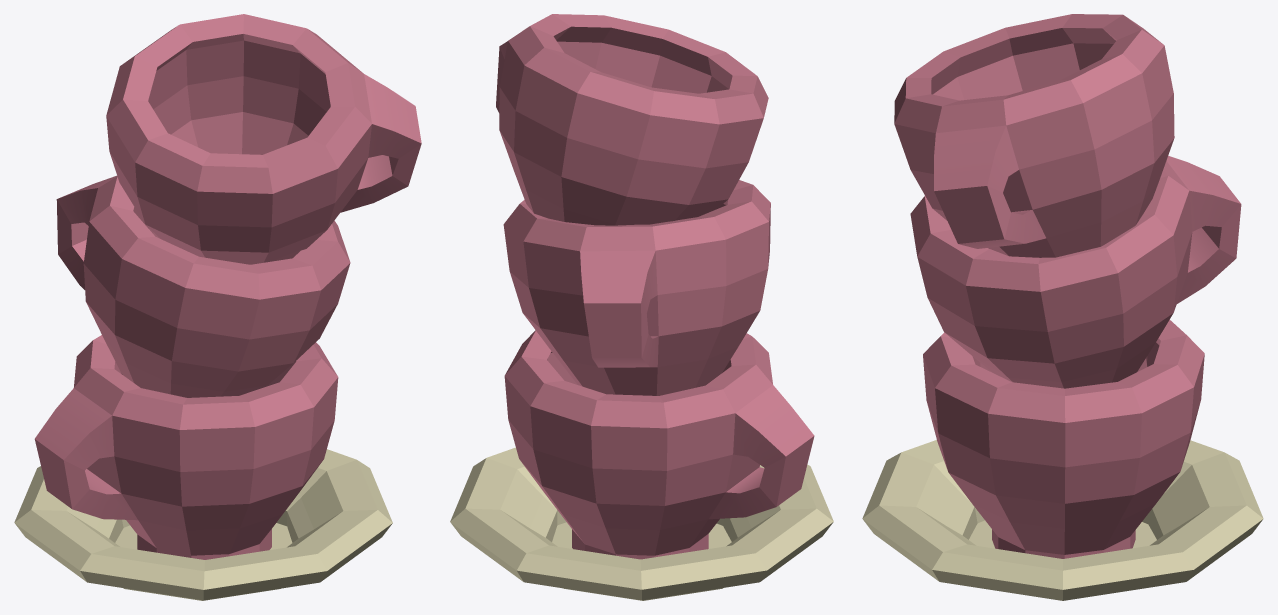
Rendered from mod_tea_column.fbx.
The picture shows the model from 3 angles, left to right: view 1: azimuth 30°, elevation 25°; view 2: azimuth 150°, elevation 25°; view 3: azimuth 270°, elevation 25°; orthographic projection. The views are drawn at different scales.
Parts seen in each view (by area): view 1: mod_tea_column_cup_c, mod_column_tea_cup_a, mod_tea_column_cup_b, mod_column_tea_cup_plate; view 2: mod_tea_column_cup_c, mod_column_tea_cup_a, mod_tea_column_cup_b, mod_column_tea_cup_plate; view 3: mod_tea_column_cup_c, mod_column_tea_cup_a, mod_tea_column_cup_b, mod_column_tea_cup_plate.
Boxes of the visible parts, <box> form: mod_tea_column_cup_c: <box>106,14,421,264</box>; mod_column_tea_cup_a: <box>34,335,338,559</box>; mod_tea_column_cup_b: <box>56,175,350,397</box>; mod_column_tea_cup_plate: <box>14,449,392,600</box>; mod_tea_column_cup_c: <box>496,14,768,225</box>; mod_column_tea_cup_a: <box>504,330,814,559</box>; mod_tea_column_cup_b: <box>503,180,770,395</box>; mod_column_tea_cup_plate: <box>450,447,833,600</box>; mod_tea_column_cup_c: <box>894,14,1174,257</box>; mod_column_tea_cup_a: <box>923,320,1204,558</box>; mod_tea_column_cup_b: <box>910,156,1241,388</box>; mod_column_tea_cup_plate: <box>862,440,1263,600</box>.
Bounding box in the file's own units: 33.66 × 48.82 × 33.16.
